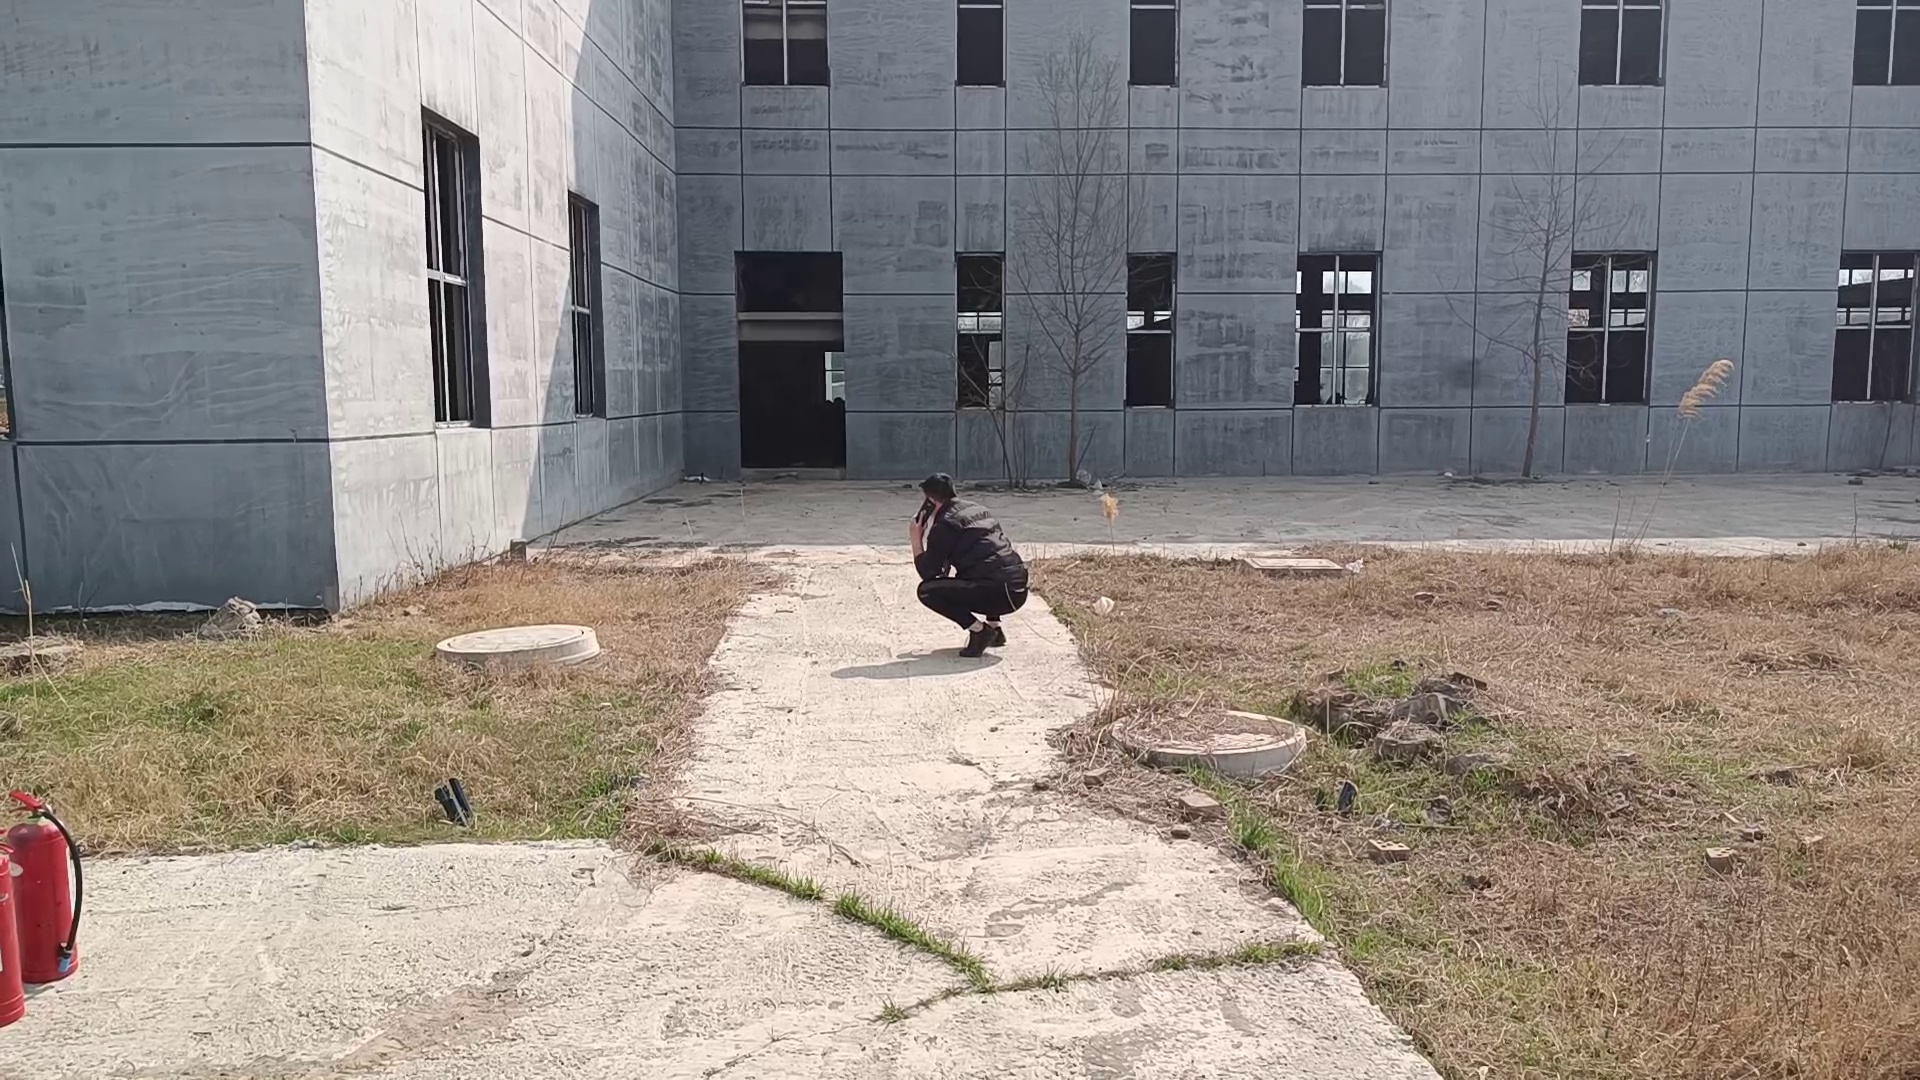phone: (907, 469, 964, 526)
